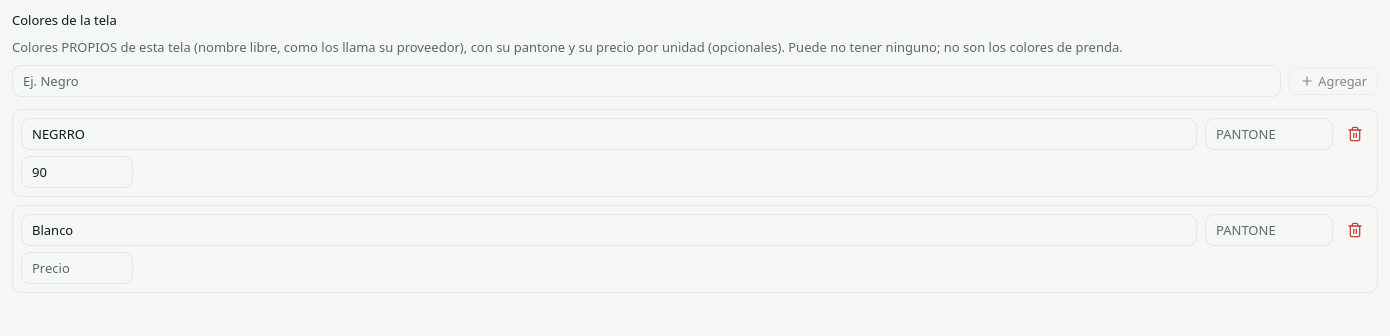
Test case: <EditorColoresTela> › RENOMBRA un color en sitio (R2-7) y avisa si el rename duplica un nombre
The width and height of the screenshot is (1390, 336).
Note: Corregir el typo en sitio: ya no hay que quitar y recapturar.
Replace the text in the field with test id "nombre-color-0" with "NEGRO" at [609, 134], box [21, 118, 1197, 150]
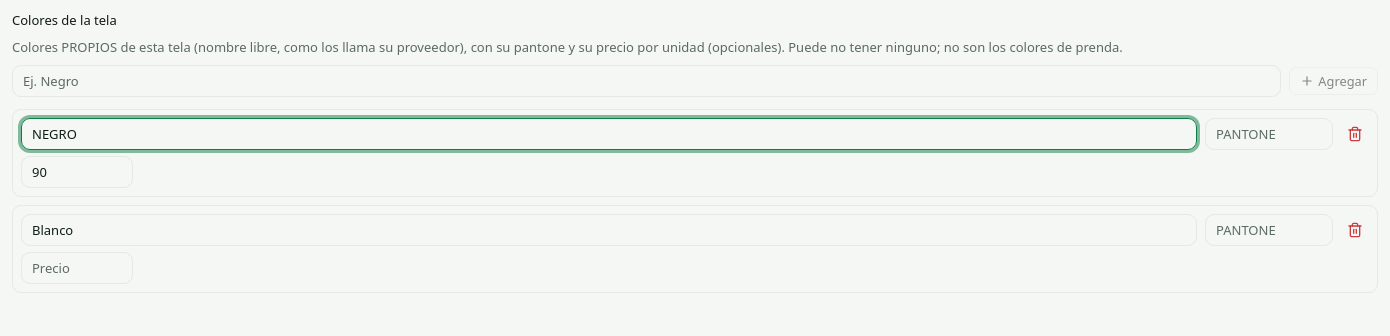
Expected: the number field with test id "precio-color-0" holds "90", [21, 156, 133, 188]
Note: Renombrar a un nombre que YA existe (insensible) avisa en vivo.
Replace the text in the field with test id "nombre-color-0" with "blanco" at [609, 134], box [21, 118, 1197, 150]
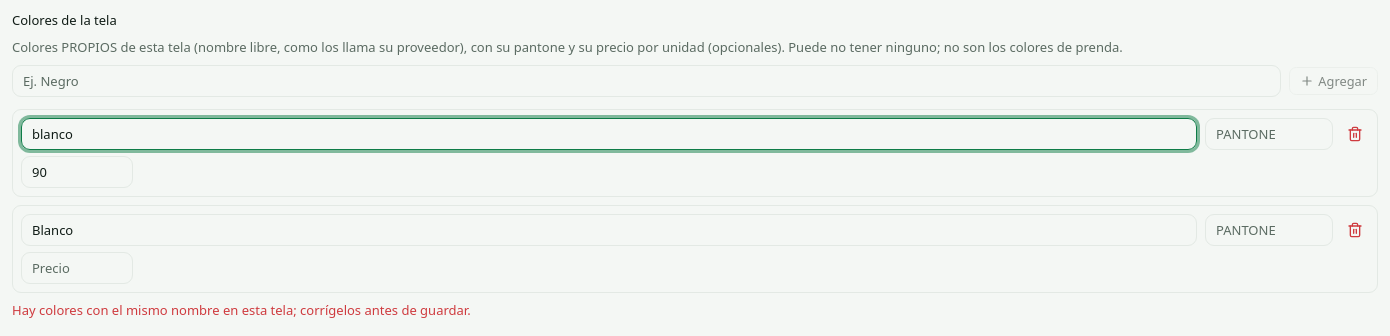
Now the message "Hay colores con el mismo nombre en esta tela; corrígelos antes de guardar." is shown, box [12, 301, 471, 319]
